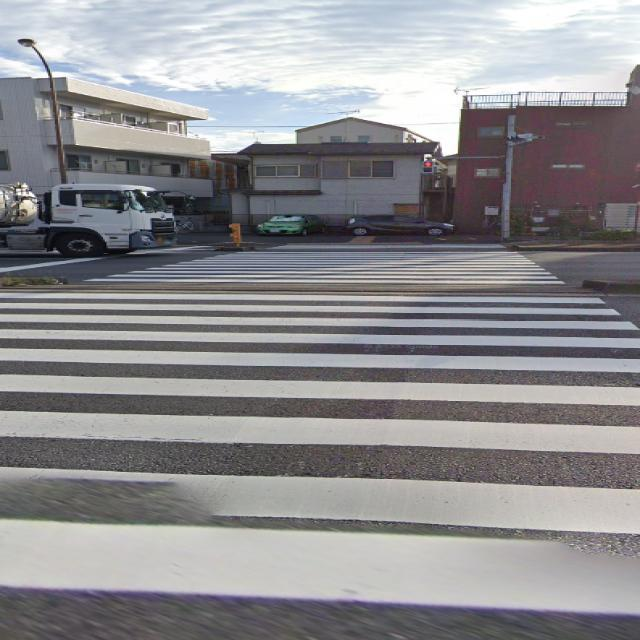traffic-light: (423, 161, 435, 173)
